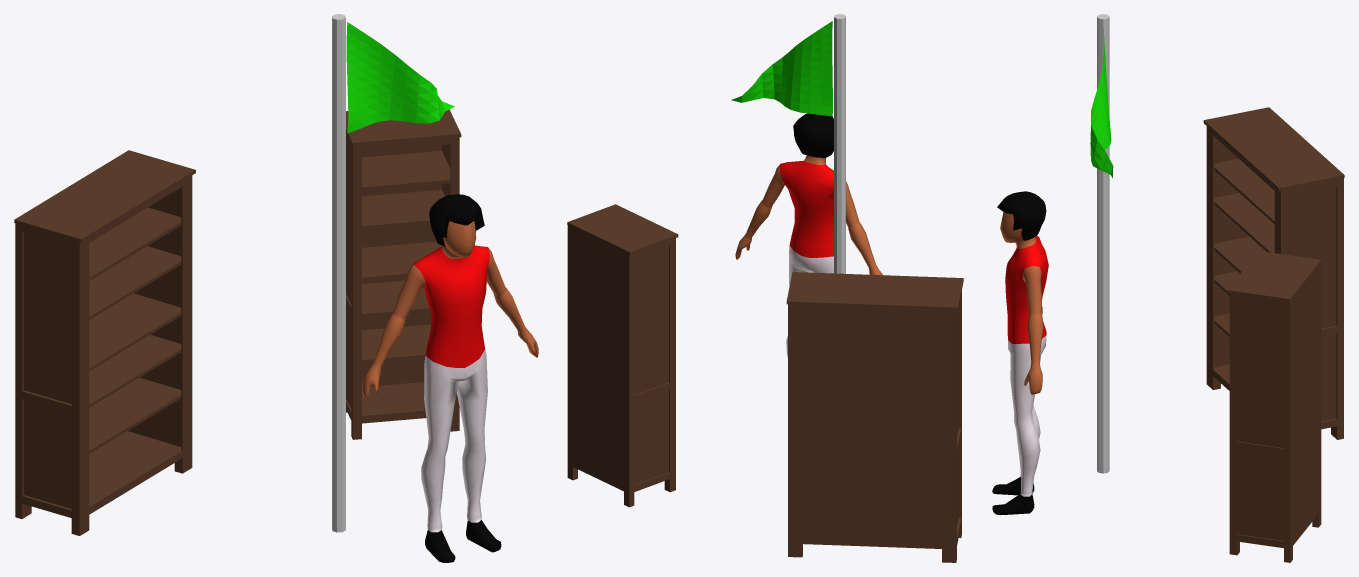
3 renders of one model, left to right at view 1: azimuth 30°, elevation 25°; view 2: azimuth 150°, elevation 25°; view 3: azimuth 270°, elevation 25°, orthographic. The views are drawn at different scales.
Parts seen in each view (by area): view 1: bookstand, bookstand_body_0.001, corpo.001, Cylinder_001_6_0, Plane, corpo.002; view 2: bookstand, bookstand_body_0.001, corpo.001, Plane, Cylinder_001_6_0, corpo.002; view 3: bookstand_body_0.001, bookstand, corpo.001, Cylinder_001_6_0, Plane, corpo.002.
Part boxes in pixels (box(x1,y1,x2,y2)): bookstand: box(14, 150, 195, 535); bookstand_body_0.001: box(346, 109, 461, 439); corpo.001: box(362, 221, 538, 562); Cylinder_001_6_0: box(332, 14, 345, 532); Plane: box(346, 22, 454, 133); corpo.002: box(429, 194, 484, 246); bookstand: box(786, 272, 963, 562); bookstand_body_0.001: box(567, 204, 678, 507); corpo.001: box(735, 155, 882, 357); Plane: box(731, 21, 832, 116); Cylinder_001_6_0: box(834, 14, 845, 273); corpo.002: box(793, 113, 833, 157); bookstand_body_0.001: box(1227, 251, 1321, 562); bookstand: box(1203, 107, 1344, 439); corpo.001: box(992, 212, 1048, 515); Cylinder_001_6_0: box(1097, 14, 1109, 473); Plane: box(1090, 29, 1113, 177); corpo.002: box(997, 191, 1046, 240).
Bounding box in the file's own units: 3.4 × 3.75 × 2.64.
